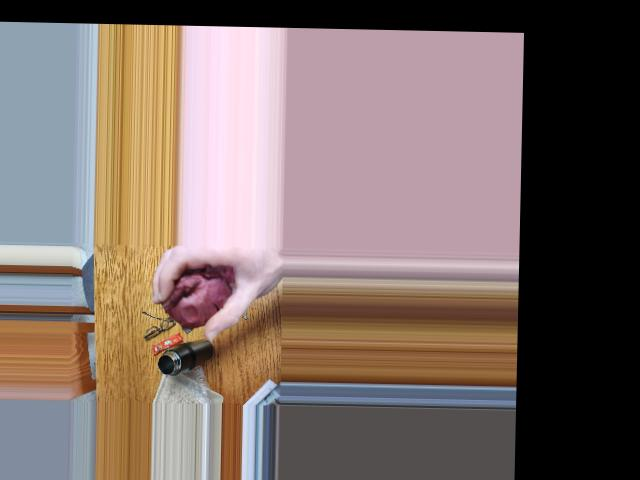onion: (173, 267, 224, 317)
